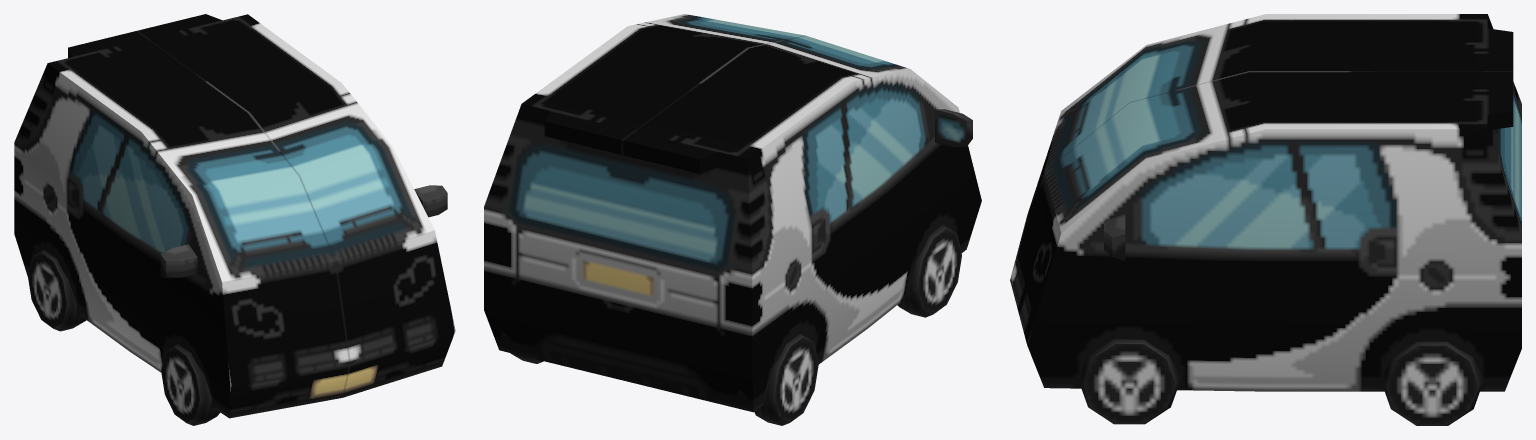
File: SmartCar.fbx
3 renders of one model, left to right at view 1: azimuth 30°, elevation 25°; view 2: azimuth 150°, elevation 25°; view 3: azimuth 270°, elevation 25°, orthographic. The views are drawn at different scales.
Parts seen in each view (by area): view 1: Body, Wheel_FrontRight, Wheel_BackRight; view 2: Body, Wheel_BackRight, Wheel_FrontRight; view 3: Body, Wheel_FrontLeft, Wheel_BackLeft.
Boxes of the visible parts, x1,y1,x2,y2 form: Body: [14, 14, 455, 418]; Wheel_FrontRight: [161, 344, 220, 425]; Wheel_BackRight: [28, 250, 86, 331]; Body: [484, 14, 981, 412]; Wheel_BackRight: [754, 334, 818, 425]; Wheel_FrontRight: [897, 225, 961, 317]; Body: [1010, 14, 1521, 391]; Wheel_FrontLeft: [1078, 339, 1180, 424]; Wheel_BackLeft: [1381, 341, 1483, 425].
Size of the model in its own units: 22.5 by 18.6 by 30.
